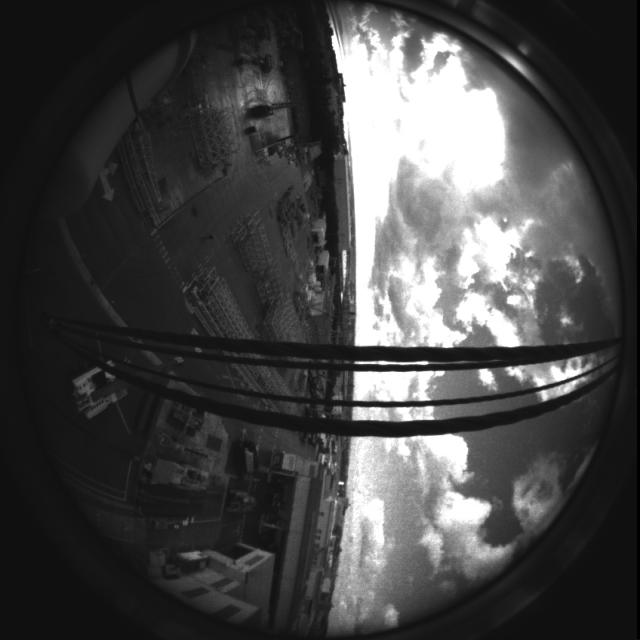rope: (1, 304, 637, 443)
sky: (324, 2, 621, 637)
